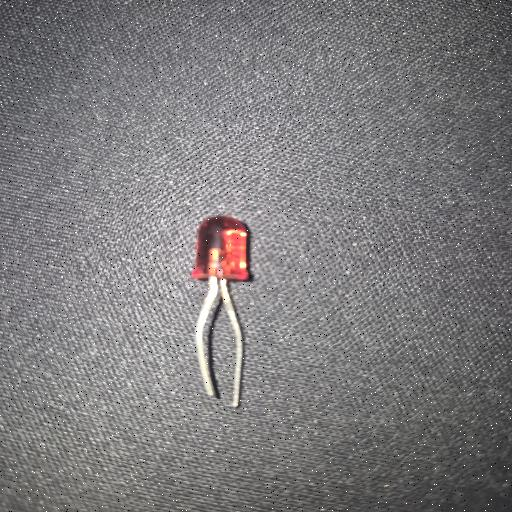led-diode: (191, 215, 254, 408)
